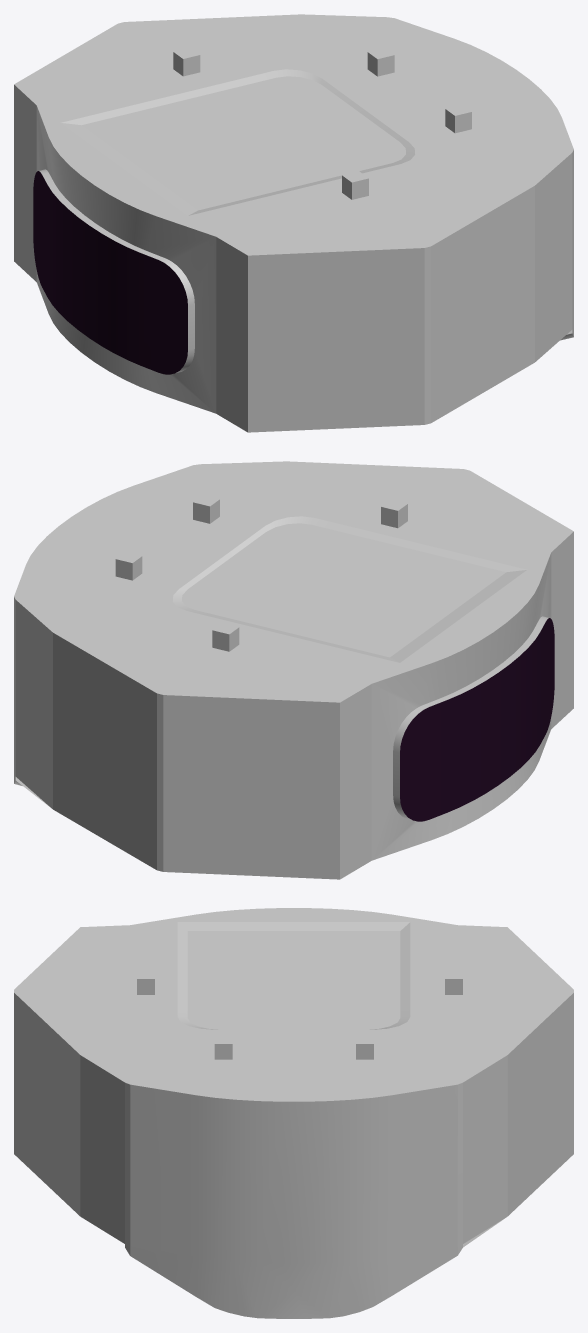
File: interior mockup.fbx
3 views of the same model, one above another, from view 1: azimuth 30°, elevation 25°; view 2: azimuth 150°, elevation 25°; view 3: azimuth 270°, elevation 25° (orthographic). The views are drawn at different scales.
Visible parts, largest first — view 1: Circle; view 2: Circle; view 3: Circle.
Part boxes in pixels (bbox=[...]): Circle: bbox=[14, 14, 573, 432]; Circle: bbox=[14, 461, 573, 879]; Circle: bbox=[14, 908, 573, 1318].
Bounding box in the file's own units: 3578 × 1989 × 4329.
